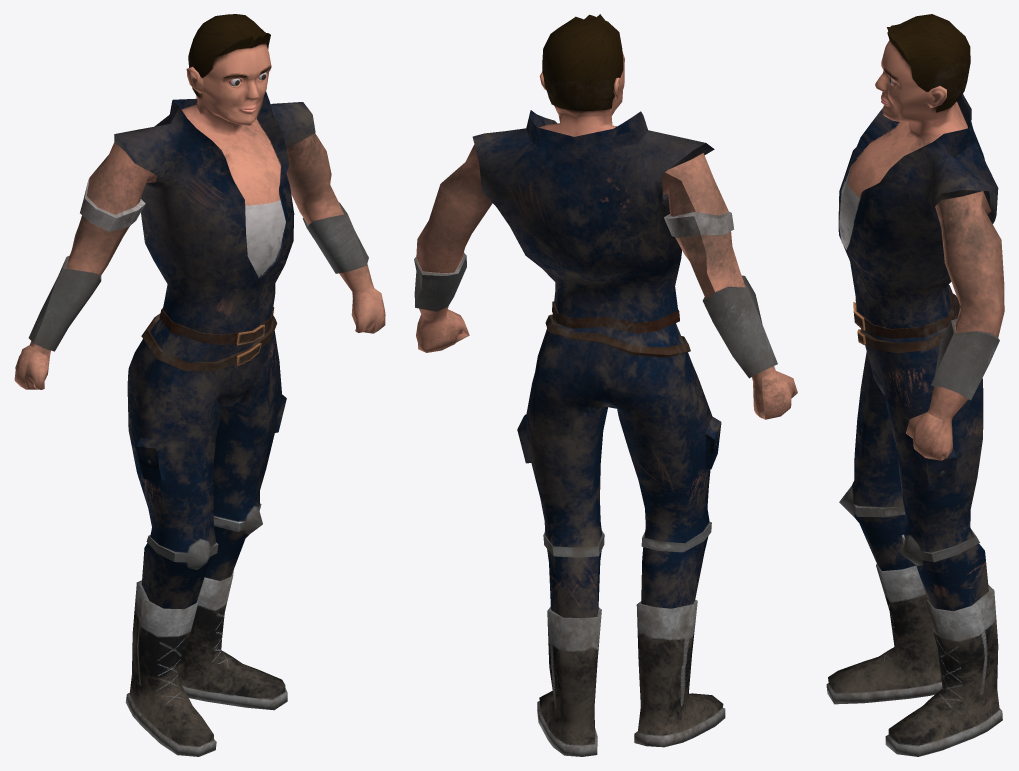
Rendered from Anim_interruptor_jugador.0034.obj.
The picture shows the model from 3 angles, left to right: view 1: azimuth 30°, elevation 25°; view 2: azimuth 150°, elevation 25°; view 3: azimuth 270°, elevation 25°; orthographic projection. The views are drawn at different scales.
Parts seen in each view (by area): view 1: polySurface1; view 2: polySurface1; view 3: polySurface1.
Boxes of the visible parts, x1,y1,x2,y2 form: polySurface1: (14,14,385,756); polySurface1: (414,14,797,756); polySurface1: (826,14,1004,756).
Bounding box in the file's own units: 5.35 × 9.59 × 2.17.
